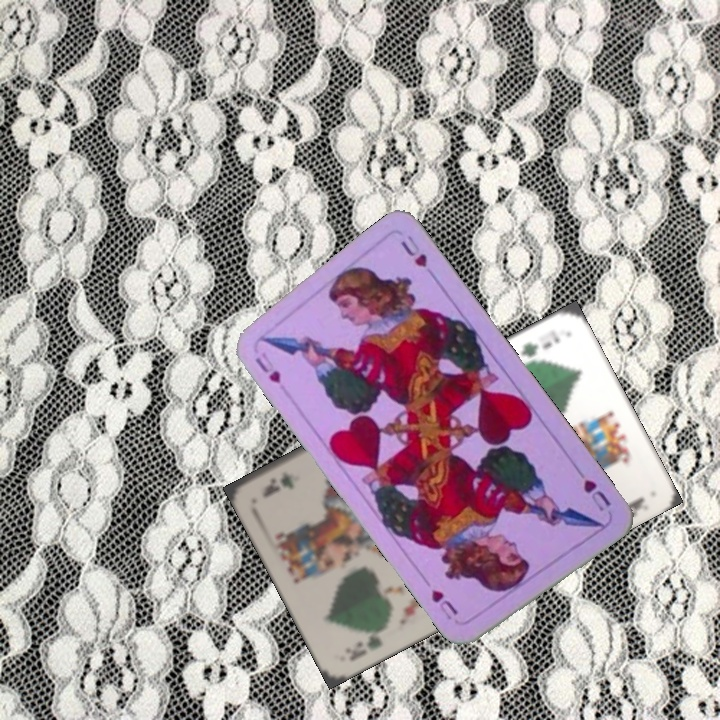GK: (517, 325, 563, 360), (345, 629, 385, 664)
HU: (572, 464, 614, 514), (251, 353, 284, 387)
